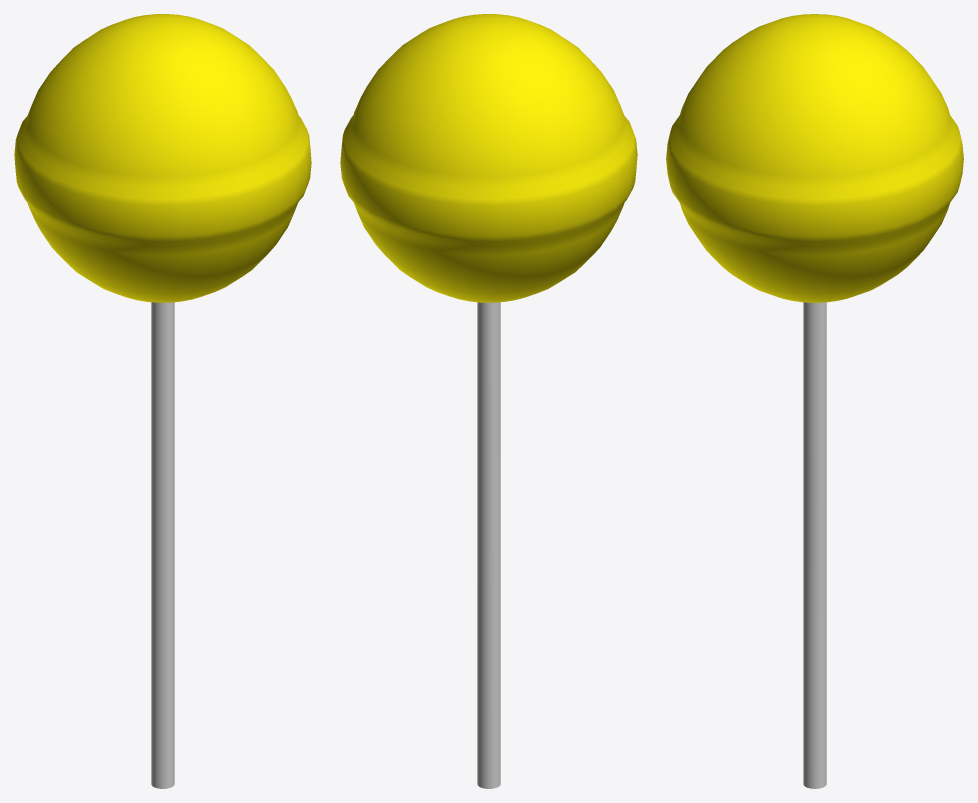
The model's file is Lolipop_yellow.fbx.
The picture shows the model from 3 angles, left to right: view 1: azimuth 30°, elevation 25°; view 2: azimuth 150°, elevation 25°; view 3: azimuth 270°, elevation 25°; orthographic projection.
Parts seen in each view (by area): view 1: Head, Stick; view 2: Head, Stick; view 3: Head, Stick.
Boxes of the visible parts, box(x1,y1,x2,y2) form: Head: box(14, 14, 311, 302); Stick: box(151, 302, 174, 788); Head: box(340, 14, 637, 302); Stick: box(477, 302, 500, 788); Head: box(666, 14, 963, 302); Stick: box(803, 302, 826, 788).
Size of the model in its own units: 3.01 by 8.45 by 3.01.
